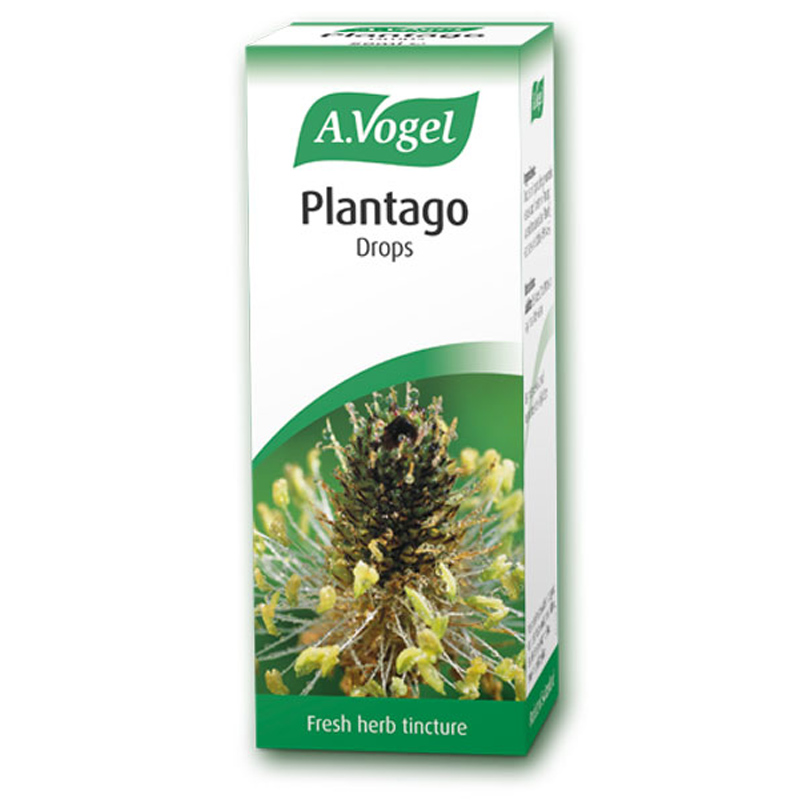buckhorn plantain: (280, 390, 509, 701)
